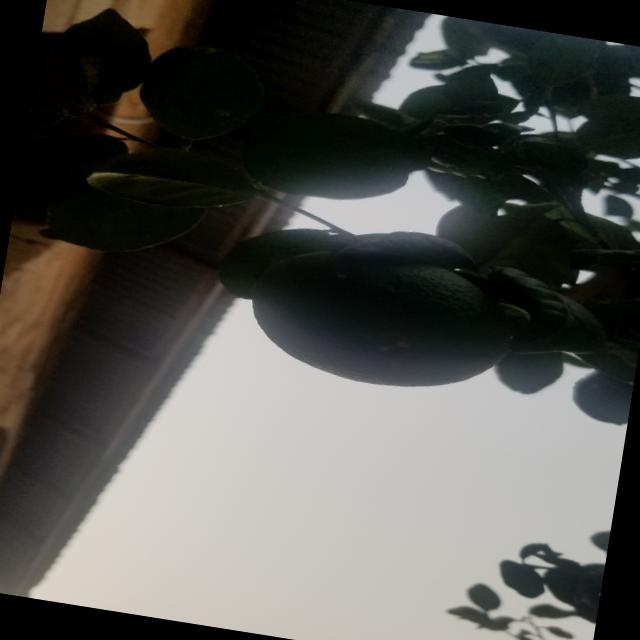agrume: (218, 216, 522, 424)
